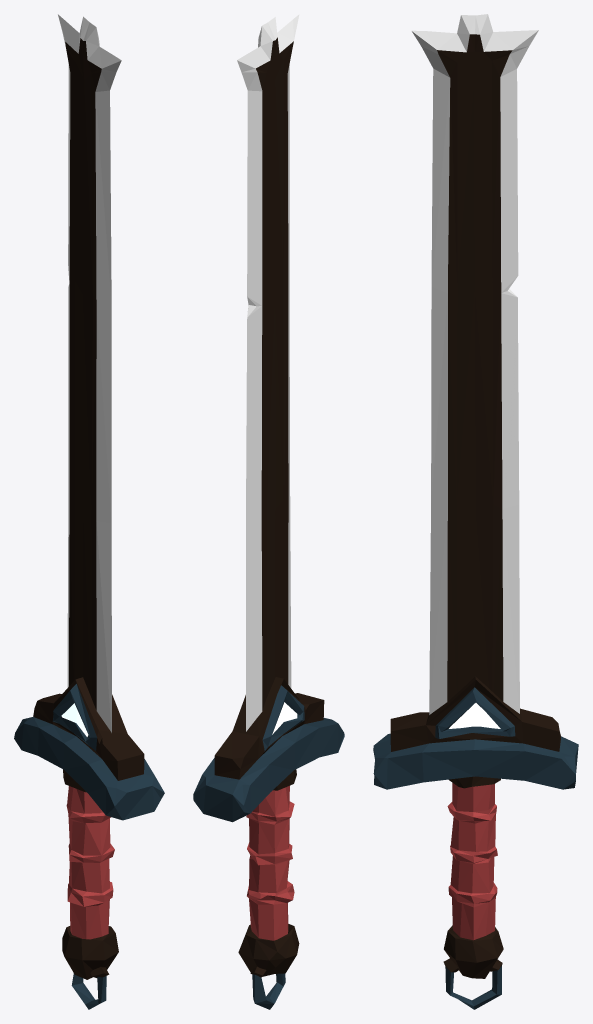
File: SFFA_Weapon_Longsword_Iron_001.fbx
3 views of the same model, side by side, from view 1: azimuth 30°, elevation 25°; view 2: azimuth 150°, elevation 25°; view 3: azimuth 270°, elevation 25° (orthographic).
Visible parts, largest first — view 1: SFFA_Weapon_Longsword_Iron_001; view 2: SFFA_Weapon_Longsword_Iron_001; view 3: SFFA_Weapon_Longsword_Iron_001.
Boxes of the visible parts, left/top/right/bottom form: SFFA_Weapon_Longsword_Iron_001: left=14, top=14, right=164, bottom=1009; SFFA_Weapon_Longsword_Iron_001: left=193, top=14, right=344, bottom=1009; SFFA_Weapon_Longsword_Iron_001: left=373, top=14, right=578, bottom=1009.
Bounding box in the file's own units: 8.74 × 153 × 28.65.
